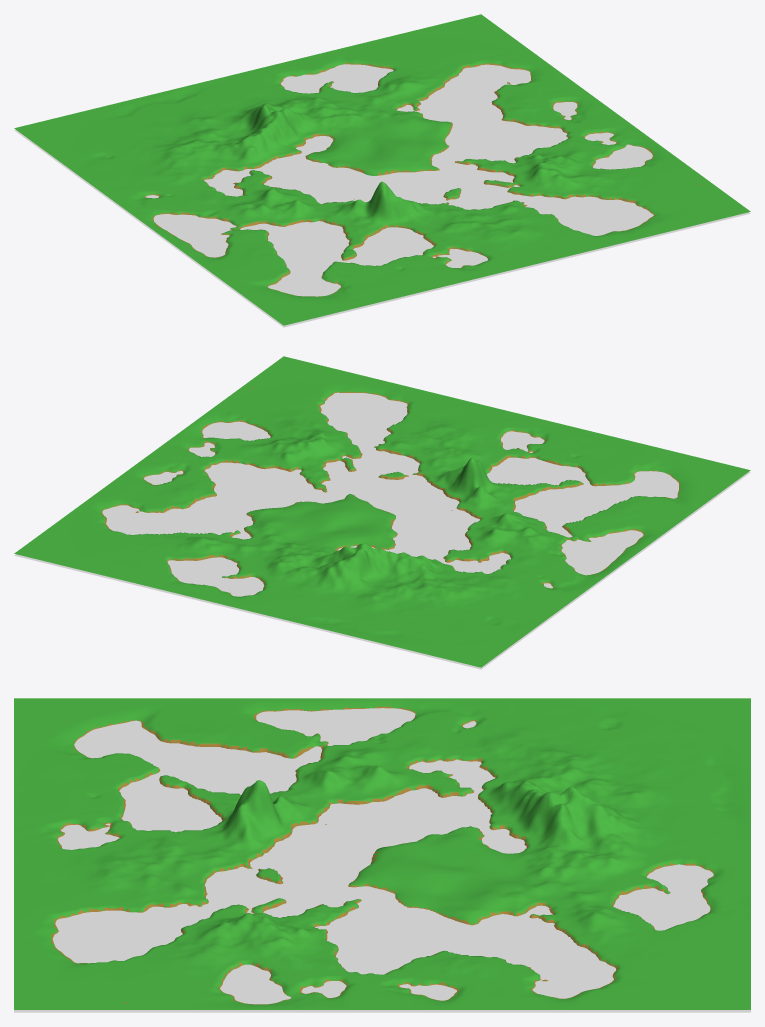
The model's file is Land3.glb.
3 renders of one model, top to bottom at view 1: azimuth 30°, elevation 25°; view 2: azimuth 150°, elevation 25°; view 3: azimuth 270°, elevation 25°, orthographic. The views are drawn at different scales.
Parts seen in each view (by area): view 1: Landscape.001, Landscape_plane; view 2: Landscape.001, Landscape_plane; view 3: Landscape.001, Landscape_plane.
Part boxes in pixels (bbox=[...]): Landscape.001: bbox=[14, 14, 750, 325]; Landscape_plane: bbox=[14, 64, 750, 327]; Landscape.001: bbox=[14, 356, 750, 667]; Landscape_plane: bbox=[14, 392, 750, 669]; Landscape.001: bbox=[14, 698, 750, 1009]; Landscape_plane: bbox=[14, 708, 750, 1012].
Size of the model in its own units: 5 by 0.8293 by 5.
